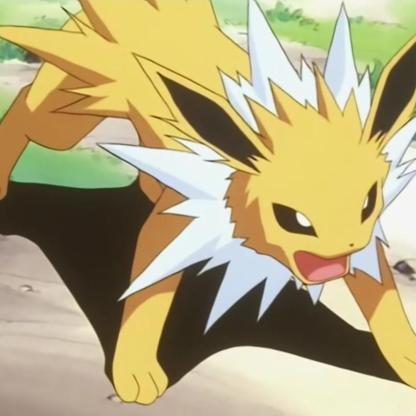Jolteon: (1, 1, 416, 407)
